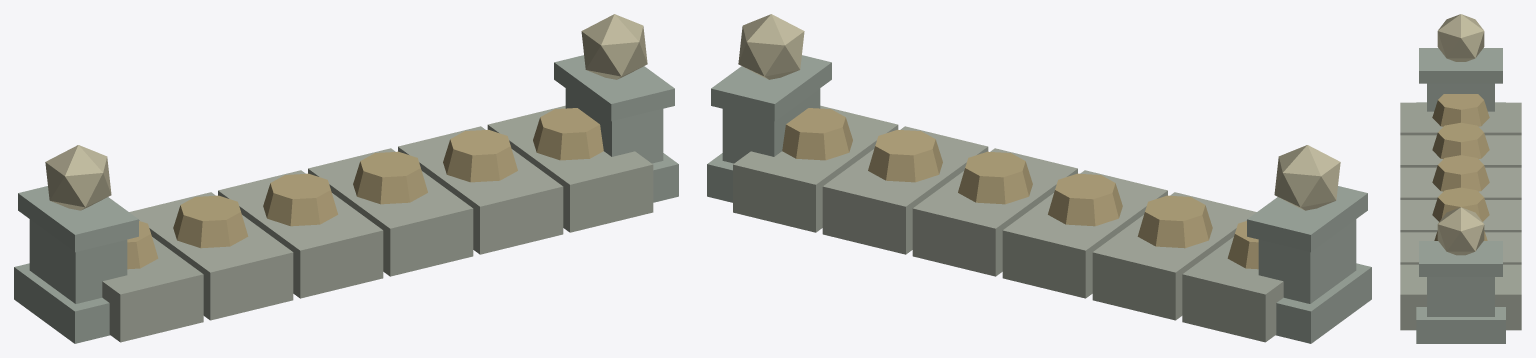
Rendered from map-exclusive-v3__champion_15.glb.
3 renders of one model, left to right at view 1: azimuth 30°, elevation 25°; view 2: azimuth 150°, elevation 25°; view 3: azimuth 270°, elevation 25°, orthographic. The views are drawn at different scales.
Parts seen in each view (by area): view 1: champion_15; view 2: champion_15; view 3: champion_15.
Boxes of the visible parts, box(x1,y1,x2,y2) form: champion_15: box(14, 14, 678, 343); champion_15: box(707, 14, 1371, 343); champion_15: box(1400, 14, 1521, 343).
Bounding box in the file's own units: 3.56 × 0.95 × 0.8401.
